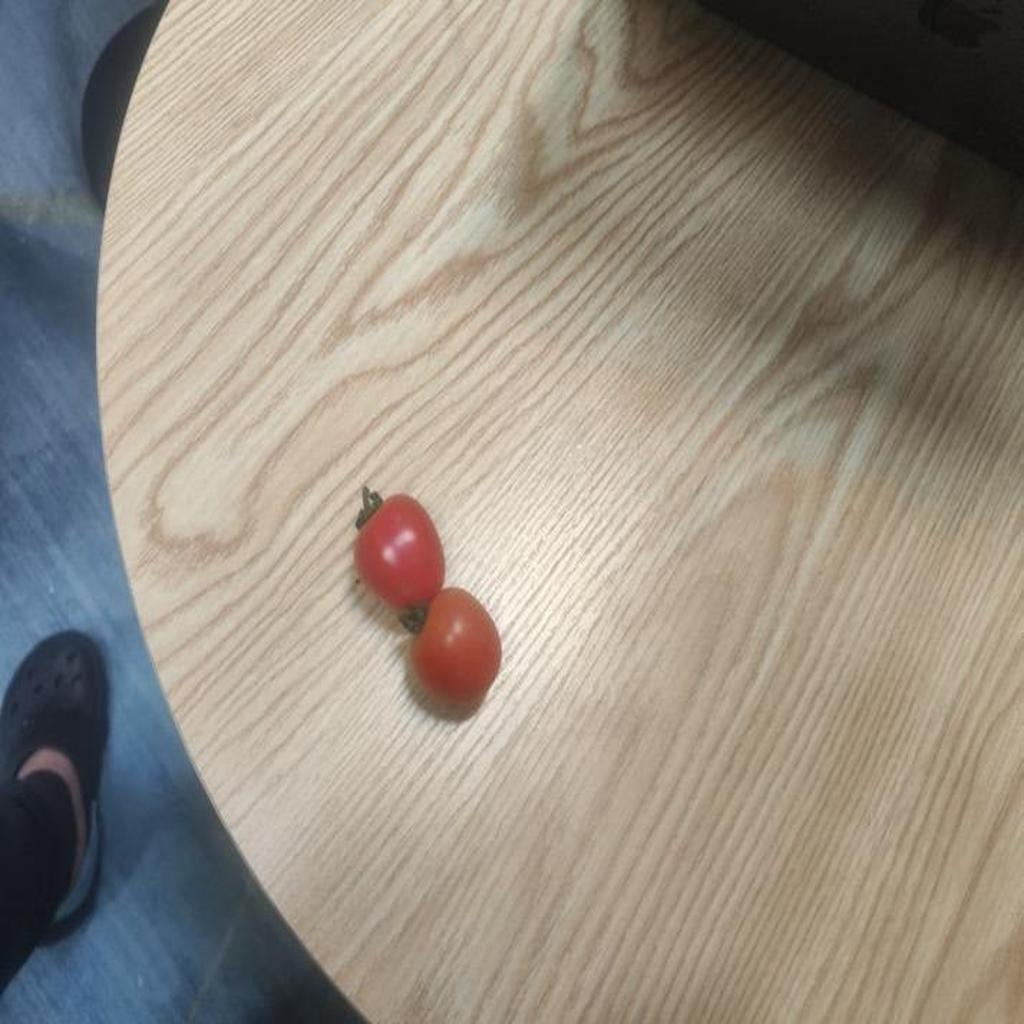tomato: (396, 591, 506, 713), (342, 494, 447, 615)
